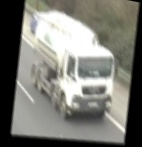truck: (17, 1, 130, 132)
